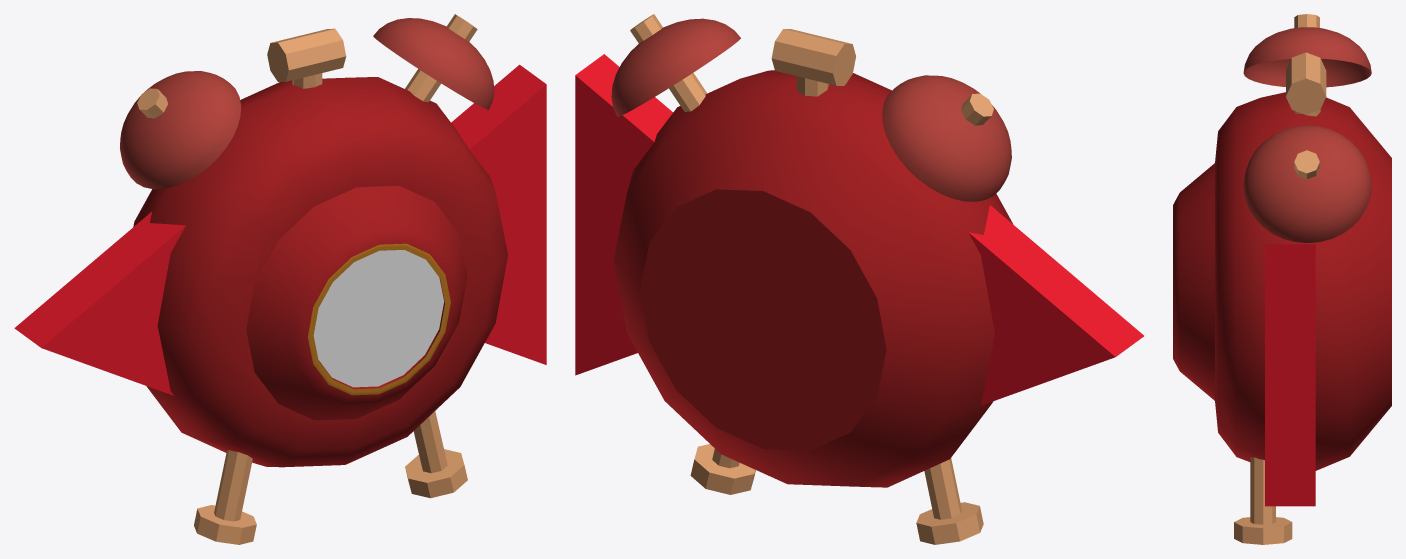
File: CLOCK-1.fbx
The picture shows the model from 3 angles, left to right: view 1: azimuth 30°, elevation 25°; view 2: azimuth 150°, elevation 25°; view 3: azimuth 270°, elevation 25°; orthographic projection. The views are drawn at different scales.
Visible parts, largest first — view 1: CLOCK _-A; view 2: CLOCK _-A; view 3: CLOCK _-A.
Boxes of the visible parts, x1,y1,x2,y2 form: CLOCK _-A: (14, 14, 546, 544); CLOCK _-A: (575, 14, 1143, 544); CLOCK _-A: (1173, 14, 1391, 544).
Bounding box in the file's own units: 0.6786 × 0.592 × 0.2732.
